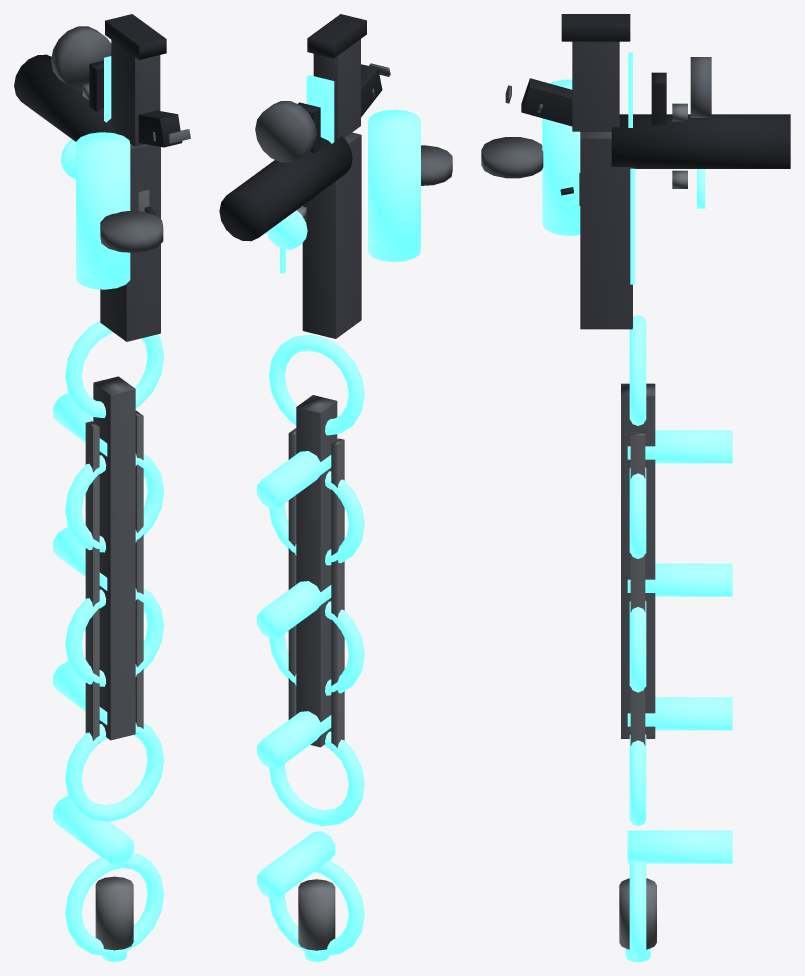
The model's file is weapon_railgun.glb.
The picture shows the model from 3 angles, left to right: view 1: azimuth 30°, elevation 25°; view 2: azimuth 150°, elevation 25°; view 3: azimuth 270°, elevation 25°; orthographic projection. The views are drawn at different scales.
Visible parts, largest first — view 1: RailChassis, BioCell, Receiver.002, ScopeBody, Rail_L, Coil_3, Coil_4, StockBody, Coil_0.001, Coil_2.001, Coil_1.001, TipElectrode (+12 smaller); view 2: RailChassis, Receiver.002, BioCell, ScopeBody, Coil_0.001, Rail_L, Coil_3, ScopeEyepiece, StockBody, CapTop_3, Coil_4, TipElectrode (+11 smaller); view 3: Receiver.002, ScopeBody, RailChassis, BioCell, StockBody, CapTop_3, CapTop_0, CapTop_2, CapTop_1, Rail_R, BioCellCap, ButtPad.001 (+10 smaller).
Part boxes in pixels (x1,y1,x2,y2): RailChassis: (93,376,135,740); BioCell: (76,132,130,289); Receiver.002: (100,143,160,341); ScopeBody: (14,54,116,141); Rail_L: (85,421,99,743); Coil_3: (65,722,164,821); Coil_4: (65,853,164,955); StockBody: (111,40,160,146); Coil_0.001: (65,320,164,417); Coil_2.001: (65,588,164,686); Coil_1.001: (65,454,164,552); TipElectrode: (95,876,133,950); RailChassis: (296,395,337,747); Receiver.002: (302,132,361,338); BioCell: (368,109,420,262); ScopeBody: (219,135,352,241); Coil_0.001: (268,334,364,435); Rail_L: (331,438,344,750); Coil_3: (269,731,364,826); ScopeEyepiece: (255,101,316,162); StockBody: (313,39,360,138); CapTop_3: (257,831,335,898); Coil_4: (269,860,364,955); TipElectrode: (298,879,335,950); Receiver.002: (580,131,632,329); ScopeBody: (611,114,790,168); RailChassis: (621,383,655,738); BioCell: (542,79,580,235); StockBody: (572,41,619,131); CapTop_3: (627,830,732,863); CapTop_0: (627,430,732,463); CapTop_2: (627,697,732,730); CapTop_1: (627,563,732,596); Rail_R: (630,432,645,745); BioCellCap: (481,137,543,178); ButtPad.001: (561,14,630,41).
Size of the model in its own units: 0.1322 by 0.982 by 0.294.
